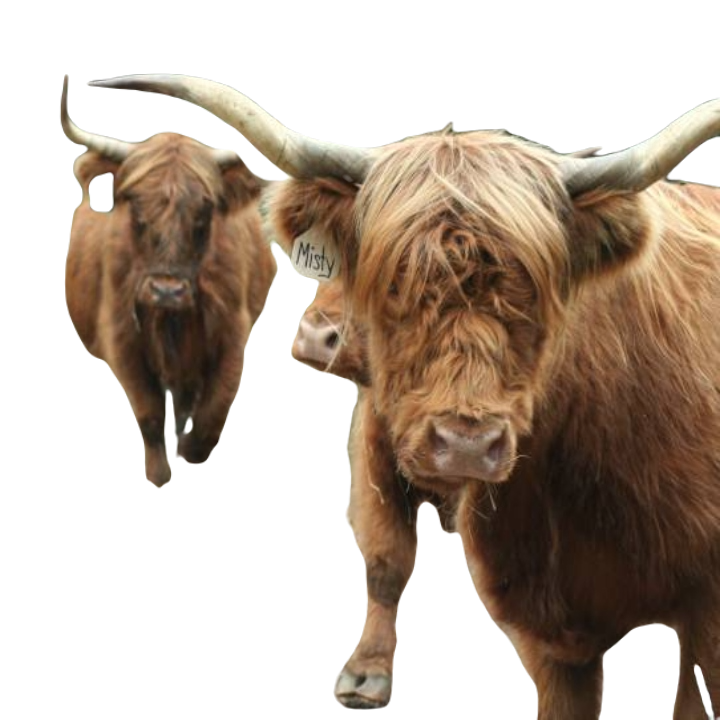Cow: (88, 67, 719, 719)
